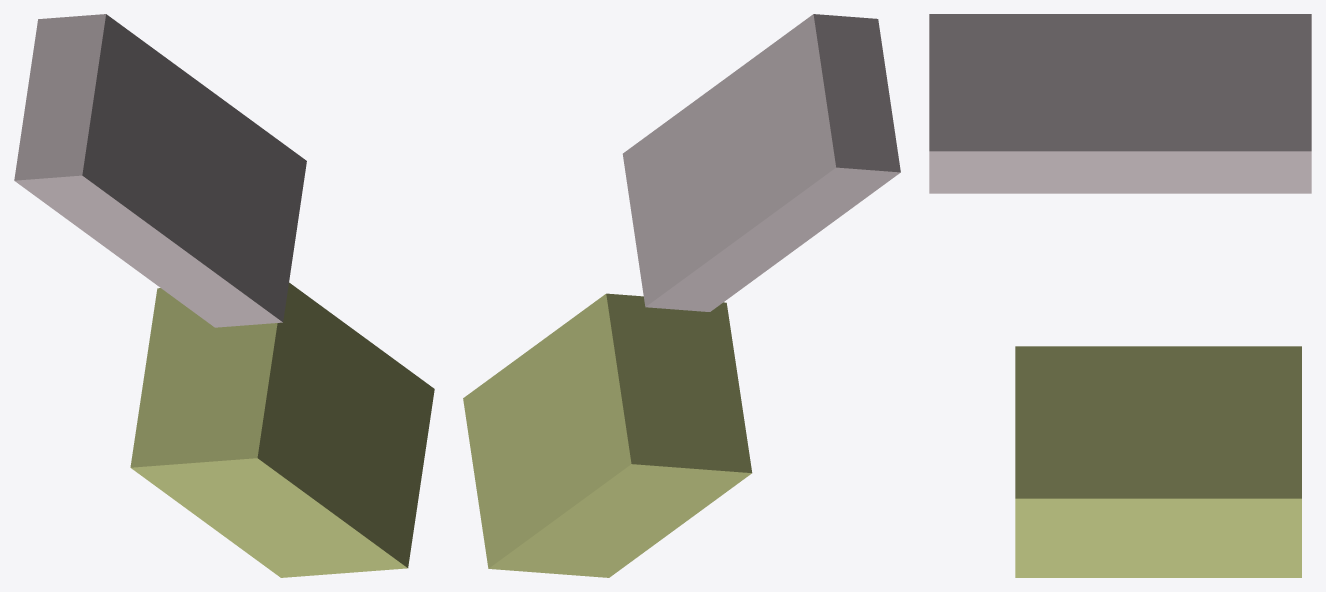
The picture shows the model from 3 angles, left to right: view 1: azimuth 30°, elevation 25°; view 2: azimuth 150°, elevation 25°; view 3: azimuth 270°, elevation 25°; orthographic projection. The views are drawn at different scales.
Visible parts, largest first — view 1: 0_3_2_2_3_0_0_0_3_1; view 2: 0_3_2_2_3_0_0_0_3_1; view 3: 0_3_2_2_3_0_0_0_3_1.
Part boxes in pixels (box(x1,y1,x2,y2)): 0_3_2_2_3_0_0_0_3_1: box(14, 14, 434, 577); 0_3_2_2_3_0_0_0_3_1: box(463, 14, 900, 577); 0_3_2_2_3_0_0_0_3_1: box(929, 14, 1311, 577).
Bounding box in the file's own units: 9.14 × 16.08 × 12.
